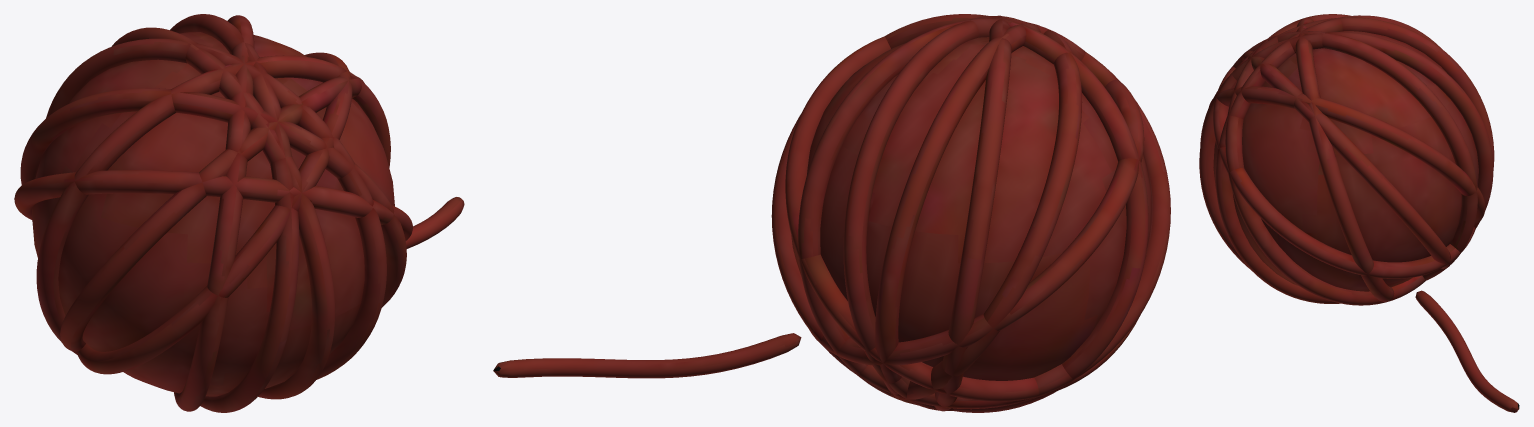
File: wool_yarn.glb
The picture shows the model from 3 angles, left to right: view 1: azimuth 30°, elevation 25°; view 2: azimuth 150°, elevation 25°; view 3: azimuth 270°, elevation 25°; orthographic projection. The views are drawn at different scales.
Parts seen in each view (by area): view 1: wool_yarn; view 2: wool_yarn; view 3: wool_yarn.
Part boxes in pixels (left/top/right/bottom): wool_yarn: left=14, top=14, right=464, bottom=412; wool_yarn: left=493, top=14, right=1170, bottom=412; wool_yarn: left=1199, top=14, right=1519, bottom=412.
Size of the model in its own units: 0.1326 by 0.0852 by 0.0928.
1 material, 1 textured.
